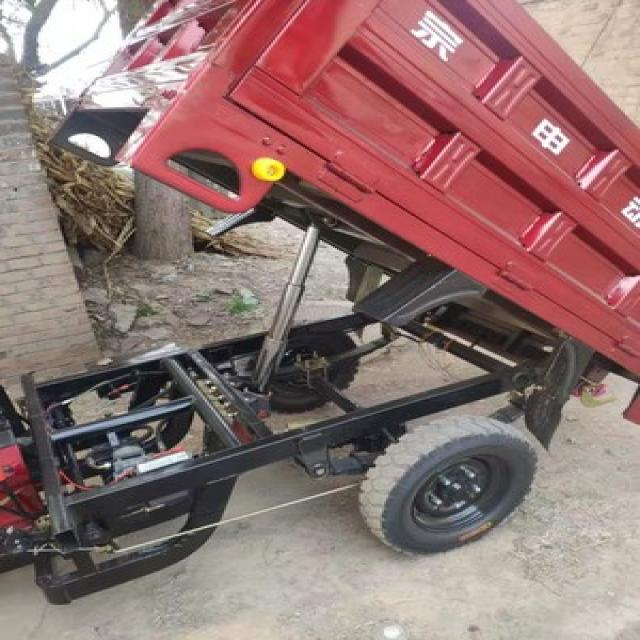tricycle: (0, 0, 638, 608)
